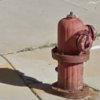Hydrant: (45, 6, 96, 100)
